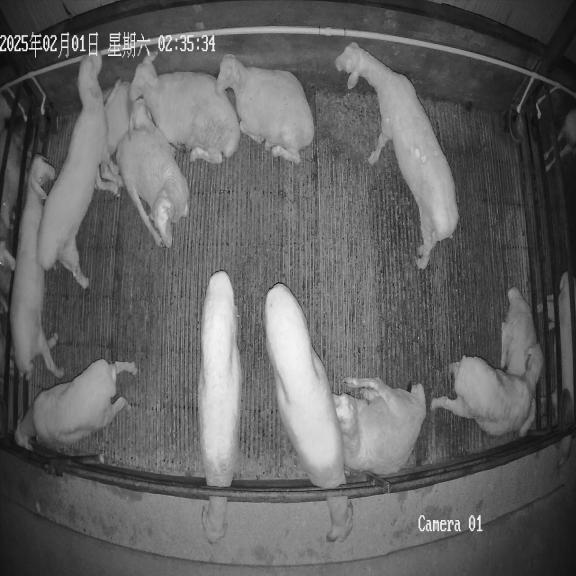eating: (264, 284, 356, 546), (198, 271, 242, 544)
lying: (130, 57, 241, 164), (217, 54, 314, 163), (333, 378, 426, 475), (116, 125, 189, 247), (500, 287, 540, 436), (106, 80, 154, 154)
stand: (336, 43, 459, 269), (37, 54, 118, 288), (10, 155, 63, 377), (15, 360, 137, 449), (432, 344, 542, 436)
